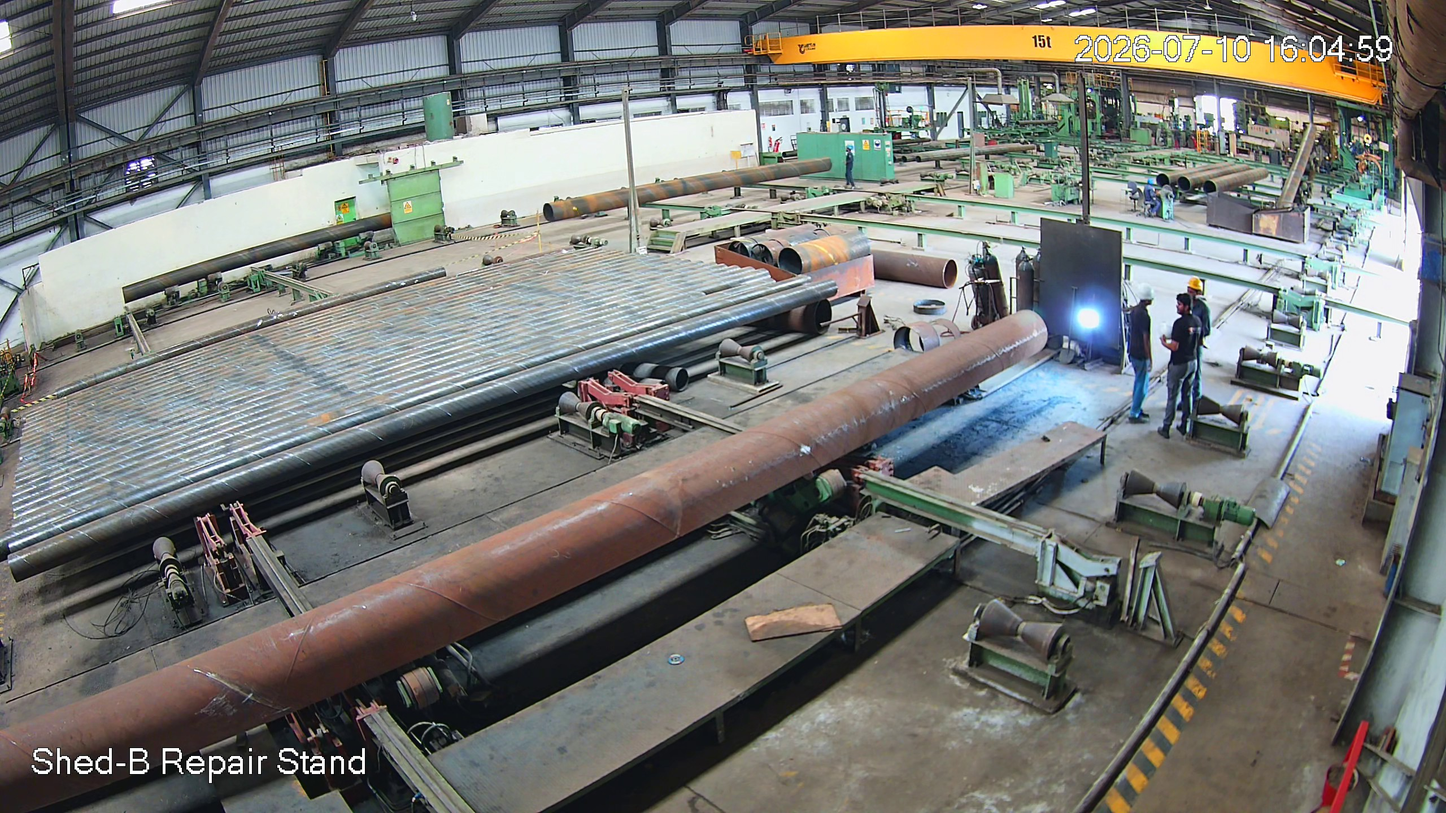Helmet: (1184, 276, 1215, 305), (1135, 277, 1160, 312)
Person: (1165, 296, 1205, 439), (1129, 282, 1160, 430), (1189, 278, 1217, 360)
